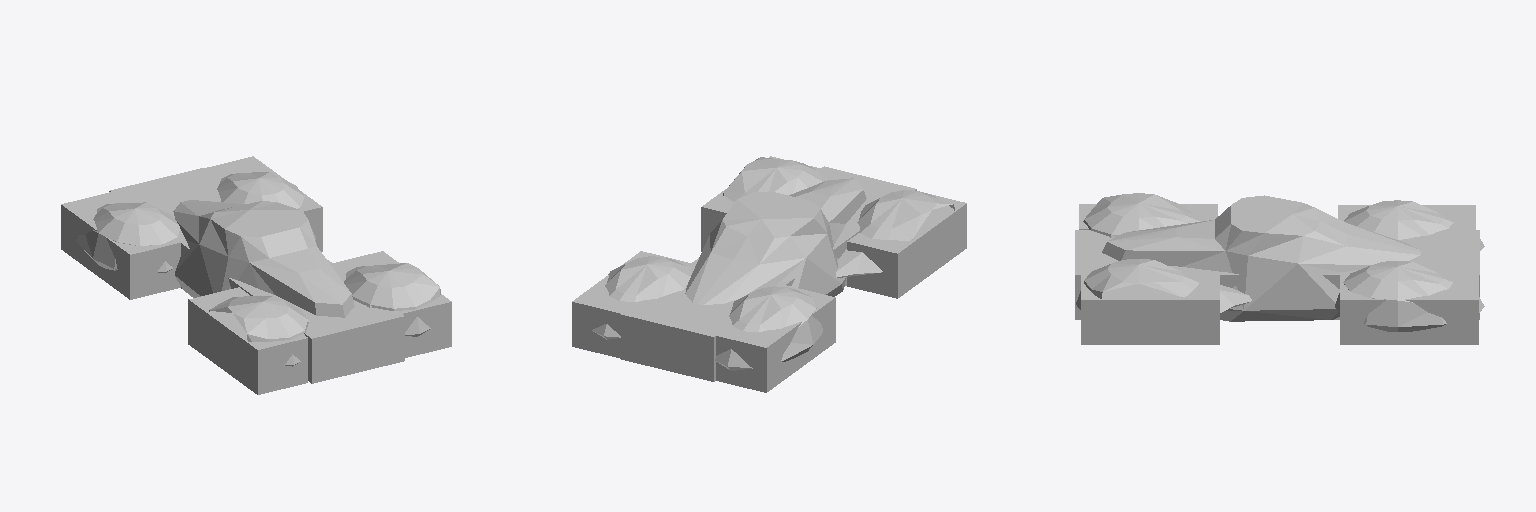
File: runabout.obj
3 views of the same model, side by side, from view 1: azimuth 30°, elevation 25°; view 2: azimuth 150°, elevation 25°; view 3: azimuth 270°, elevation 25° (orthographic).
Visible parts, largest first — view 1: Collision, body, cab, RR, LF, RF, LR; view 2: Collision, body, cab, RR, RF, LR, LF; view 3: Collision, body, cab, LR, LF, RF, RR.
Part boxes in pixels (x1,y1,x2,y2): Collision: (61,156,451,394); body: (173,200,354,317); cab: (199,201,316,262); RR: (76,202,179,272); LF: (344,263,440,336); RF: (209,296,309,366); LR: (217,172,304,208); Collision: (572,156,966,392); body: (685,178,866,304); cab: (710,192,828,264); RR: (715,286,822,370); RF: (836,190,954,277); LR: (592,256,691,339); LF: (723,157,821,201); Collision: (1075,204,1479,344); body: (1102,220,1420,321); cab: (1215,195,1347,262); LR: (1335,261,1484,331); LF: (1076,259,1251,312); RF: (1083,193,1199,237); RR: (1344,200,1484,250).
Bounding box in the file's own units: 43.2 × 16.49 × 73.42.